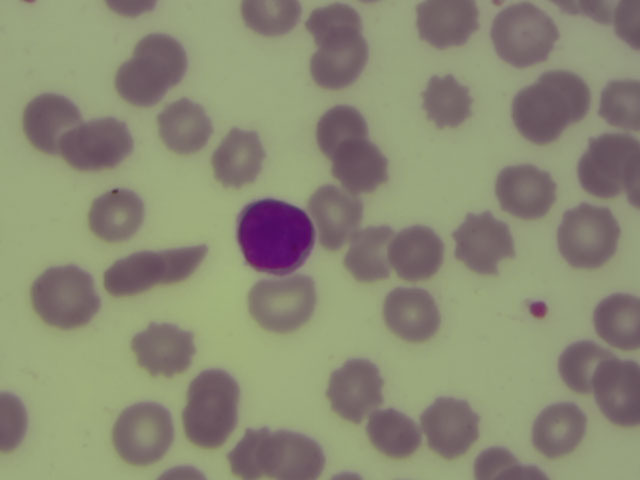Platelets: (525, 292, 551, 326)
RBC: (58, 116, 139, 167), (256, 429, 327, 480), (452, 213, 512, 272), (496, 158, 556, 217), (528, 400, 588, 459), (421, 397, 481, 456), (559, 208, 619, 267), (379, 285, 439, 344), (305, 186, 365, 245), (365, 401, 425, 460), (322, 356, 382, 415), (115, 402, 175, 461), (132, 319, 192, 378), (332, 134, 392, 193), (415, 73, 475, 132), (495, 4, 555, 63), (309, 33, 369, 92), (34, 265, 94, 324), (86, 185, 146, 244), (210, 127, 270, 186), (156, 97, 216, 156), (21, 93, 81, 152), (411, 1, 480, 48), (226, 426, 283, 480), (558, 340, 617, 392), (390, 224, 446, 278), (340, 226, 397, 278), (182, 389, 235, 443), (594, 289, 640, 351), (104, 249, 163, 296), (153, 240, 213, 286), (597, 359, 640, 422), (126, 32, 192, 73), (537, 67, 592, 115), (316, 104, 369, 153), (307, 3, 362, 50), (114, 58, 167, 106), (514, 91, 563, 142), (597, 77, 640, 131), (241, 1, 305, 36), (1, 384, 28, 457), (473, 439, 518, 480), (189, 369, 238, 406), (604, 1, 640, 50)
WBC: (235, 198, 316, 278)
